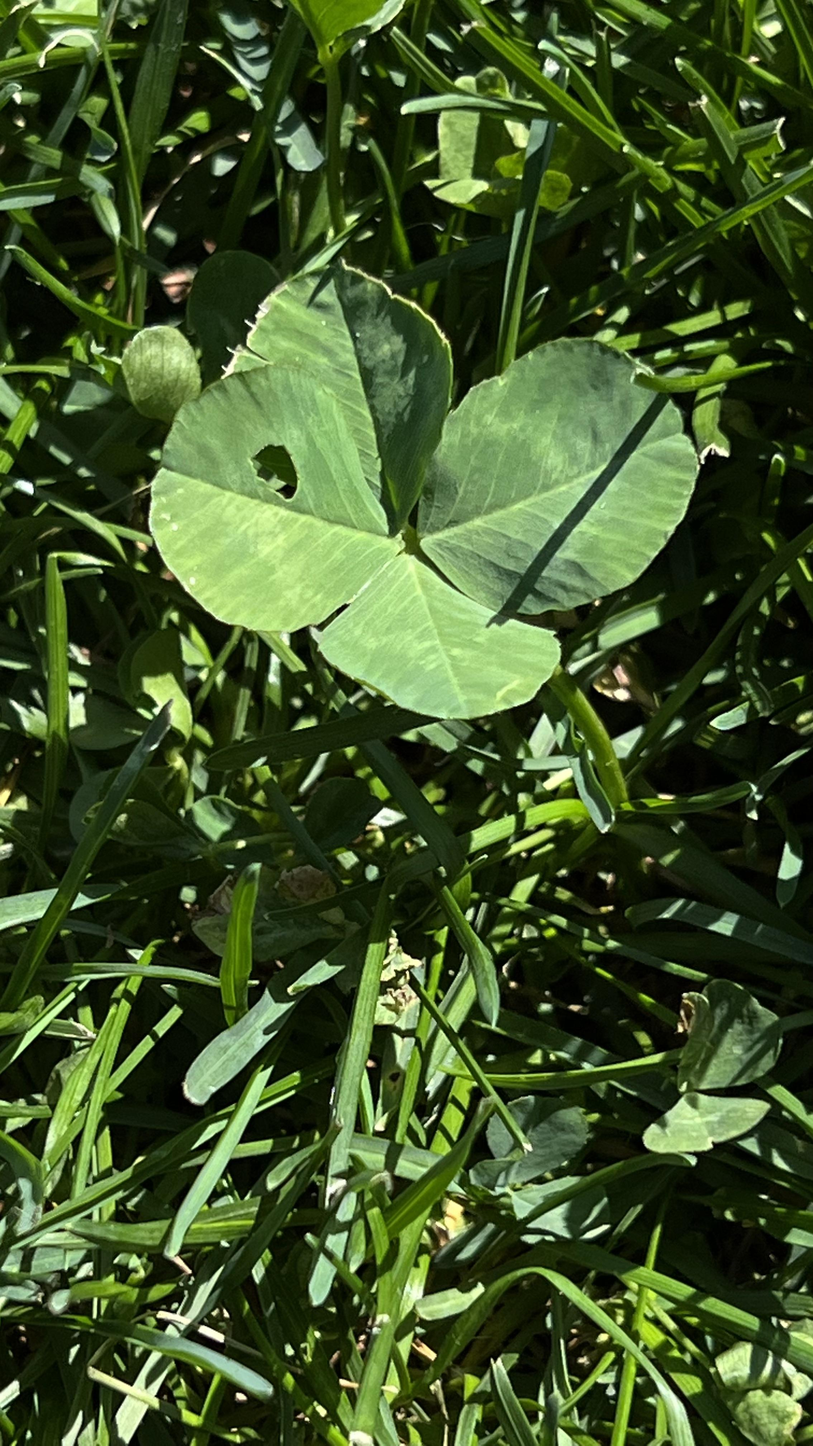4-Leaf-Clovers: (144, 196, 405, 1177)
